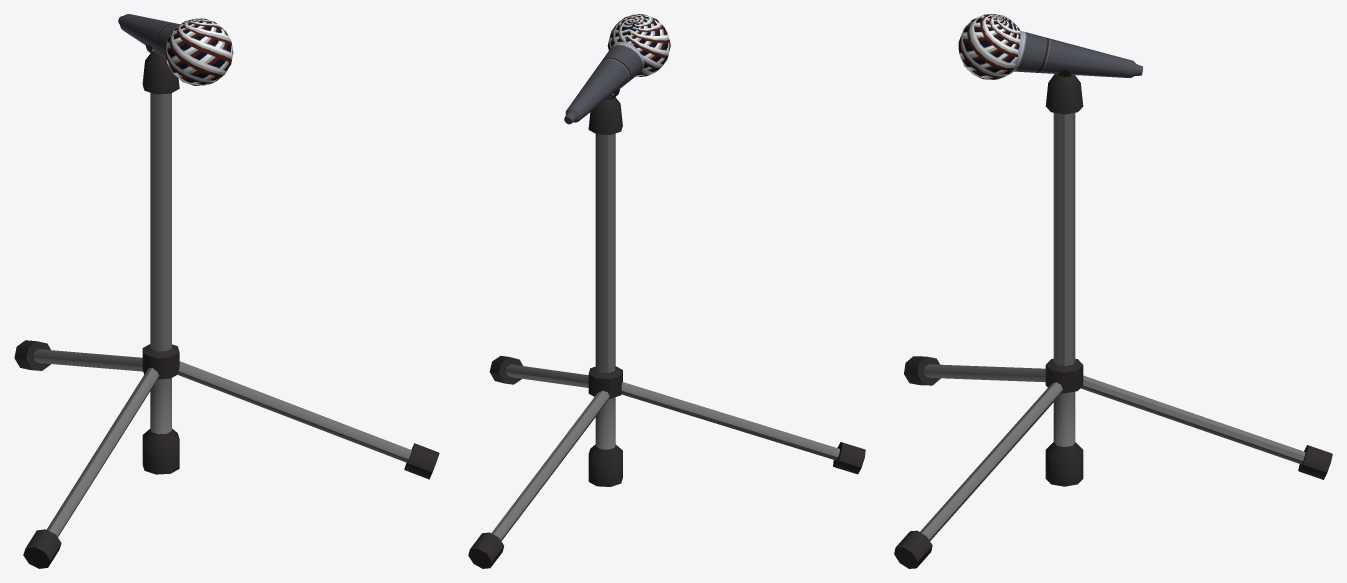
File: microphone.FBX
The picture shows the model from 3 angles, left to right: view 1: azimuth 30°, elevation 25°; view 2: azimuth 150°, elevation 25°; view 3: azimuth 270°, elevation 25°; orthographic projection. The views are drawn at different scales.
Parts seen in each view (by area): view 1: _stand, _microphone; view 2: _stand, _microphone; view 3: _stand, _microphone.
Part boxes in pixels (x1,y1,x2,y2): _stand: (14,41,439,568); _microphone: (118,14,233,85); _stand: (468,86,865,568); _microphone: (564,14,670,124); _stand: (894,69,1332,568); _microphone: (958,14,1143,79).
Size of the model in its own units: 1.61 by 1.78 by 1.53.
